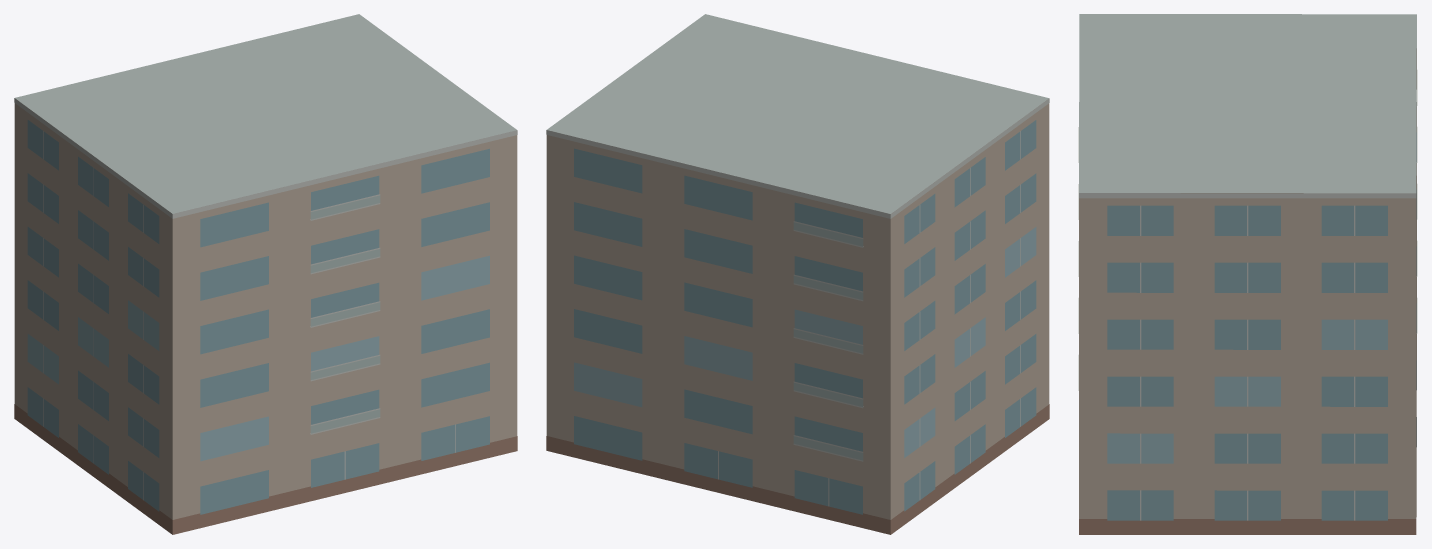
File: survey-upis-32747844.glb
3 renders of one model, left to right at view 1: azimuth 30°, elevation 25°; view 2: azimuth 150°, elevation 25°; view 3: azimuth 270°, elevation 25°, orthographic. The views are drawn at different scales.
Visible parts, largest first — view 1: survey-upis-32747844.tmp; view 2: survey-upis-32747844.tmp; view 3: survey-upis-32747844.tmp.
Part boxes in pixels (x1,y1,x2,y2): survey-upis-32747844.tmp: (14, 14, 517, 534); survey-upis-32747844.tmp: (546, 14, 1049, 534); survey-upis-32747844.tmp: (1078, 14, 1417, 534).
Bounding box in the file's own units: 18.12 × 16.1 × 14.5.
